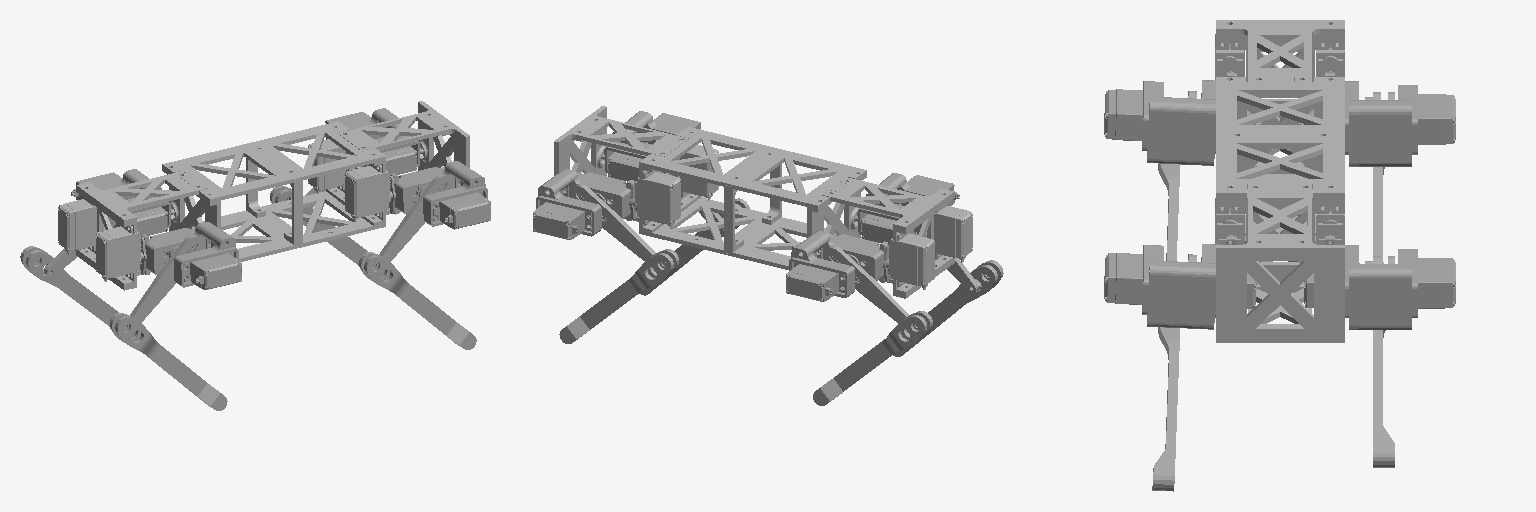
URDF robot description (quadrup):
<?xml version="1.0" encoding="utf-8"?>
<!-- This URDF was automatically created by SolidWorks to URDF Exporter! Originally created by [author] ([email redacted]) 
     Commit Version: 1.6.0-4-g7f85cfe  Build Version: 1.6.7995.38578
     For more information, please see http://wiki.ros.org/sw_urdf_exporter -->
<robot
  name="quadrup">
  <link
    name="base_link">
    <inertial>
      <origin
        xyz="0 0 0"
        rpy="0 0 0" />
      <mass
        value="0.382868888957105" />
      <inertia
        ixx="0.000232445436878078"
        ixy="2.37778762452196E-14"
        ixz="1.92128795328865E-07"
        iyy="0.000232617182321307"
        iyz="-3.24177325290421E-14"
        izz="0.000325745093873624" />
    </inertial>
    <visual>
      <origin
        xyz="0 0 0"
        rpy="0 0 0" />
      <geometry>
        <mesh
          filename="package://quadrup/meshes/base_link.STL" />
      </geometry>
      <material
        name="">
        <color
          rgba="0.752941176470588 0.752941176470588 0.752941176470588 1" />
      </material>
    </visual>
    <collision>
      <origin
        xyz="0 0 0"
        rpy="0 0 0" />
      <geometry>
        <mesh
          filename="package://quadrup/meshes/base_link.STL" />
      </geometry>
    </collision>
  </link>
  <link
    name="leg_right_front">
    <inertial>
      <origin
        xyz="0.14711684616153 0.0673352164210883 -0.0101408682722447"
        rpy="0 0 0" />
      <mass
        value="0.112174369943159" />
      <inertia
        ixx="1.94112267637735E-05"
        ixy="-4.28200144523829E-07"
        ixz="-6.55913870418751E-10"
        iyy="3.66363936956841E-05"
        iyz="-2.82551817811596E-10"
        izz="3.68270404564996E-05" />
    </inertial>
    <visual>
      <origin
        xyz="0 0 0"
        rpy="0 0 0" />
      <geometry>
        <mesh
          filename="package://quadrup/meshes/leg_right_front.STL" />
      </geometry>
      <material
        name="">
        <color
          rgba="0.698039215686274 0.698039215686274 0.698039215686274 1" />
      </material>
    </visual>
    <collision>
      <origin
        xyz="0 0 0"
        rpy="0 0 0" />
      <geometry>
        <mesh
          filename="package://quadrup/meshes/leg_right_front.STL" />
      </geometry>
    </collision>
  </link>
  <joint
    name="joint1_lrf"
    type="revolute">
    <origin
      xyz="0 0 0"
      rpy="0 0 0" />
    <parent
      link="base_link" />
    <child
      link="leg_right_front" />
    <axis
      xyz="-1 0 0" />
    <limit
      lower="-1.57"
      upper="1.57"
      effort="1"
      velocity="7.48" />
  </joint>
  <link
    name="leg_right_front1.1">
    <inertial>
      <origin
        xyz="-0.0235694055422505 -0.00188445326675283 -0.0146673156055545"
        rpy="0 0 0" />
      <mass
        value="0.0105672809279507" />
      <inertia
        ixx="2.85094813814072E-06"
        ixy="2.52526135162662E-08"
        ixz="-4.0963087070173E-06"
        iyy="9.6735125308005E-06"
        iyz="1.57147812508127E-08"
        izz="6.88429928708425E-06" />
    </inertial>
    <visual>
      <origin
        xyz="0 0 0"
        rpy="0 0 0" />
      <geometry>
        <mesh
          filename="package://quadrup/meshes/leg_right_front1.1.STL" />
      </geometry>
      <material
        name="">
        <color
          rgba="0.698039215686274 0.698039215686274 0.698039215686274 1" />
      </material>
    </visual>
    <collision>
      <origin
        xyz="0 0 0"
        rpy="0 0 0" />
      <geometry>
        <mesh
          filename="package://quadrup/meshes/leg_right_front1.1.STL" />
      </geometry>
    </collision>
  </link>
  <joint
    name="joint1.1_lrf"
    type="revolute">
    <origin
      xyz="0.1345 0.0637499999999992 -0.0101999999999993"
      rpy="0 0 0" />
    <parent
      link="leg_right_front" />
    <child
      link="leg_right_front1.1" />
    <axis
      xyz="0 -1 0" />
    <limit
      lower="-1.57"
      upper="1.57"
      effort="1"
      velocity="7.48" />
  </joint>
  <link
    name="leg_right_front1.2">
    <inertial>
      <origin
        xyz="0.0387030895245631 -0.00936090289722566 -0.0368234873031682"
        rpy="0 0 0" />
      <mass
        value="0.0233626466083218" />
      <inertia
        ixx="2.65270461821195E-05"
        ixy="3.46181135638184E-07"
        ixz="2.67578997250576E-05"
        iyy="5.49199124052956E-05"
        iyz="-3.29368083237573E-07"
        izz="2.91923744045958E-05" />
    </inertial>
    <visual>
      <origin
        xyz="0 0 0"
        rpy="0 0 0" />
      <geometry>
        <mesh
          filename="package://quadrup/meshes/leg_right_front1.2.STL" />
      </geometry>
      <material
        name="">
        <color
          rgba="0.698039215686274 0.698039215686274 0.698039215686274 1" />
      </material>
    </visual>
    <collision>
      <origin
        xyz="0 0 0"
        rpy="0 0 0" />
      <geometry>
        <mesh
          filename="package://quadrup/meshes/leg_right_front1.2.STL" />
      </geometry>
    </collision>
  </link>
  <joint
    name="joint1.2_lrf"
    type="revolute">
    <origin
      xyz="-0.0721671910673833 0.0162000000000004 -0.0449098712249736"
      rpy="0 0 0" />
    <parent
      link="leg_right_front1.1" />
    <child
      link="leg_right_front1.2" />
    <axis
      xyz="0 -1 0" />
    <limit
      lower="-1.57"
      upper="1.57"
      effort="1"
      velocity="7.48" />
  </joint>
  <link
    name="leg_right_back">
    <inertial>
      <origin
        xyz="-0.123083152184718 0.0673352139819278 -0.0101408681334863"
        rpy="0 0 0" />
      <mass
        value="0.1121743784994" />
      <inertia
        ixx="1.94112275755957E-05"
        ixy="-4.2819784110199E-07"
        ixz="-6.56378120003153E-10"
        iyy="3.66364004059403E-05"
        iyz="-2.82403459617044E-10"
        izz="3.6827047985535E-05" />
    </inertial>
    <visual>
      <origin
        xyz="0 0 0"
        rpy="0 0 0" />
      <geometry>
        <mesh
          filename="package://quadrup/meshes/leg_right_back.STL" />
      </geometry>
      <material
        name="">
        <color
          rgba="0.698039215686274 0.698039215686274 0.698039215686274 1" />
      </material>
    </visual>
    <collision>
      <origin
        xyz="0 0 0"
        rpy="0 0 0" />
      <geometry>
        <mesh
          filename="package://quadrup/meshes/leg_right_back.STL" />
      </geometry>
    </collision>
  </link>
  <joint
    name="joint1_lrb"
    type="revolute">
    <origin
      xyz="0 0 0"
      rpy="0 0 0" />
    <parent
      link="base_link" />
    <child
      link="leg_right_back" />
    <axis
      xyz="-1 0 0" />
    <limit
      lower="-1.57"
      upper="1.57"
      effort="1"
      velocity="7.48" />
  </joint>
  <link
    name="leg_right_back1.1">
    <inertial>
      <origin
        xyz="-0.0235694055422511 -0.000234453266753157 -0.0146673156055546"
        rpy="0 0 0" />
      <mass
        value="0.0105672809279507" />
      <inertia
        ixx="2.85094813814072E-06"
        ixy="2.52526135162688E-08"
        ixz="-4.0963087070173E-06"
        iyy="9.67351253080049E-06"
        iyz="1.57147812508142E-08"
        izz="6.88429928708424E-06" />
    </inertial>
    <visual>
      <origin
        xyz="0 0 0"
        rpy="0 0 0" />
      <geometry>
        <mesh
          filename="package://quadrup/meshes/leg_right_back1.1.STL" />
      </geometry>
      <material
        name="">
        <color
          rgba="0.698039215686274 0.698039215686274 0.698039215686274 1" />
      </material>
    </visual>
    <collision>
      <origin
        xyz="0 0 0"
        rpy="0 0 0" />
      <geometry>
        <mesh
          filename="package://quadrup/meshes/leg_right_back1.1.STL" />
      </geometry>
    </collision>
  </link>
  <joint
    name="joint1.1_lrb"
    type="revolute">
    <origin
      xyz="-0.1357 0.0620999999999996 -0.0101999999999998"
      rpy="0 0 0" />
    <parent
      link="leg_right_back" />
    <child
      link="leg_right_back1.1" />
    <axis
      xyz="0 -1 0" />
    <limit
      lower="-1.57"
      upper="1.57"
      effort="1"
      velocity="7.48" />
  </joint>
  <link
    name="leg_right_back1.2">
    <inertial>
      <origin
        xyz="0.0387030895245632 -0.00936090289722567 -0.0368234873031682"
        rpy="0 0 0" />
      <mass
        value="0.0233626466083219" />
      <inertia
        ixx="2.65270461821195E-05"
        ixy="3.4618113563819E-07"
        ixz="2.67578997250577E-05"
        iyy="5.49199124052957E-05"
        iyz="-3.29368083237577E-07"
        izz="2.91923744045958E-05" />
    </inertial>
    <visual>
      <origin
        xyz="0 0 0"
        rpy="0 0 0" />
      <geometry>
        <mesh
          filename="package://quadrup/meshes/leg_right_back1.2.STL" />
      </geometry>
      <material
        name="">
        <color
          rgba="0.698039215686274 0.698039215686274 0.698039215686274 1" />
      </material>
    </visual>
    <collision>
      <origin
        xyz="0 0 0"
        rpy="0 0 0" />
      <geometry>
        <mesh
          filename="package://quadrup/meshes/leg_right_back1.2.STL" />
      </geometry>
    </collision>
  </link>
  <joint
    name="joint1.2_lrb"
    type="revolute">
    <origin
      xyz="-0.0721671910673838 0.0178500000000001 -0.0449098712249736"
      rpy="0 0 0" />
    <parent
      link="leg_right_back1.1" />
    <child
      link="leg_right_back1.2" />
    <axis
      xyz="0 -1 0" />
    <limit
      lower="-1.57"
      upper="1.57"
      effort="1"
      velocity="7.48" />
  </joint>
  <link
    name="leg_left_front">
    <inertial>
      <origin
        xyz="0.147285903596159 -0.0670634994667191 -0.00863009067399865"
        rpy="0 0 0" />
      <mass
        value="0.112879360735619" />
      <inertia
        ixx="1.97267992447894E-05"
        ixy="4.71156377097915E-07"
        ixz="-2.31041512231938E-08"
        iyy="3.74050185920932E-05"
        iyz="-5.38599672276371E-09"
        izz="3.72954507940468E-05" />
    </inertial>
    <visual>
      <origin
        xyz="0 0 0"
        rpy="0 0 0" />
      <geometry>
        <mesh
          filename="package://quadrup/meshes/leg_left_front.STL" />
      </geometry>
      <material
        name="">
        <color
          rgba="0.698039215686274 0.698039215686274 0.698039215686274 1" />
      </material>
    </visual>
    <collision>
      <origin
        xyz="0 0 0"
        rpy="0 0 0" />
      <geometry>
        <mesh
          filename="package://quadrup/meshes/leg_left_front.STL" />
      </geometry>
    </collision>
  </link>
  <joint
    name="joint1_llf"
    type="revolute">
    <origin
      xyz="0 0 0"
      rpy="0 0 0" />
    <parent
      link="base_link" />
    <child
      link="leg_left_front" />
    <axis
      xyz="-1 0 0" />
    <limit
      lower="-1.57"
      upper="1.57"
      effort="1"
      velocity="7.48" />
  </joint>
  <link
    name="leg_left_front1.1">
    <inertial>
      <origin
        xyz="-0.0201829060898926 0.000948612578875269 -0.0191297837087719"
        rpy="0 0 0" />
      <mass
        value="0.0105672809279507" />
      <inertia
        ixx="4.60662839701264E-06"
        ixy="-2.44867159960041E-07"
        ixz="-4.55182540570307E-06"
        iyy="9.66061099098475E-06"
        iyz="-2.42665849785899E-07"
        izz="5.14152056802804E-06" />
    </inertial>
    <visual>
      <origin
        xyz="0 0 0"
        rpy="0 0 0" />
      <geometry>
        <mesh
          filename="package://quadrup/meshes/leg_left_front1.1.STL" />
      </geometry>
      <material
        name="">
        <color
          rgba="0.698039215686274 0.698039215686274 0.698039215686274 1" />
      </material>
    </visual>
    <collision>
      <origin
        xyz="0 0 0"
        rpy="0 0 0" />
      <geometry>
        <mesh
          filename="package://quadrup/meshes/leg_left_front1.1.STL" />
      </geometry>
    </collision>
  </link>
  <joint
    name="joint1.1_llf"
    type="revolute">
    <origin
      xyz="0.1345 -0.0637155529176513 -0.00879427032280614"
      rpy="0 0 0" />
    <parent
      link="leg_left_front" />
    <child
      link="leg_left_front1.1" />
    <axis
      xyz="0 0.998799753228262 -0.0489801281252161" />
    <limit
      lower="-1.57"
      upper="1.57"
      effort="1"
      velocity="7.48" />
  </joint>
  <link
    name="leg_left_front1.2">
    <inertial>
      <origin
        xyz="0.0376235638373703 0.00749205731578731 -0.0383387713778731"
        rpy="0 0 0" />
      <mass
        value="0.0233626464777189" />
      <inertia
        ixx="2.80740686991034E-05"
        ixy="9.7606728602727E-07"
        ixz="2.67745360843051E-05"
        iyy="5.48876703050073E-05"
        iyz="-9.96707077112438E-07"
        izz="2.76775939399887E-05" />
    </inertial>
    <visual>
      <origin
        xyz="0 0 0"
        rpy="0 0 0" />
      <geometry>
        <mesh
          filename="package://quadrup/meshes/leg_left_front1.2.STL" />
      </geometry>
      <material
        name="">
        <color
          rgba="0.698039215686274 0.698039215686274 0.698039215686274 1" />
      </material>
    </visual>
    <collision>
      <origin
        xyz="0 0 0"
        rpy="0 0 0" />
      <geometry>
        <mesh
          filename="package://quadrup/meshes/leg_left_front1.2.STL" />
      </geometry>
    </collision>
  </link>
  <joint
    name="joint1.2_llf"
    type="revolute">
    <origin
      xyz="-0.0617980643369767 -0.0207370418706593 -0.057414147547947"
      rpy="0 0 0" />
    <parent
      link="leg_left_front1.1" />
    <child
      link="leg_left_front1.2" />
    <axis
      xyz="0 0.998799753228262 -0.0489801281252177" />
    <limit
      lower="-1.57"
      upper="1.57"
      effort="1"
      velocity="7.48" />
  </joint>
  <link
    name="leg_left_back">
    <inertial>
      <origin
        xyz="-0.12291409639043 -0.0670634994486883 -0.00863009067628879"
        rpy="0 0 0" />
      <mass
        value="0.112879360808416" />
      <inertia
        ixx="1.97267992476244E-05"
        ixy="4.71156365932039E-07"
        ixz="-2.31041463579559E-08"
        iyy="3.74050186419914E-05"
        iyz="-5.38599547090938E-09"
        izz="3.72954508461301E-05" />
    </inertial>
    <visual>
      <origin
        xyz="0 0 0"
        rpy="0 0 0" />
      <geometry>
        <mesh
          filename="package://quadrup/meshes/leg_left_back.STL" />
      </geometry>
      <material
        name="">
        <color
          rgba="0.698039215686274 0.698039215686274 0.698039215686274 1" />
      </material>
    </visual>
    <collision>
      <origin
        xyz="0 0 0"
        rpy="0 0 0" />
      <geometry>
        <mesh
          filename="package://quadrup/meshes/leg_left_back.STL" />
      </geometry>
    </collision>
  </link>
  <joint
    name="joint1_llb"
    type="revolute">
    <origin
      xyz="0 0 0"
      rpy="0 0 0" />
    <parent
      link="base_link" />
    <child
      link="leg_left_back" />
    <axis
      xyz="-1 0 0" />
    <limit
      lower="-1.57"
      upper="1.57"
      effort="1"
      velocity="7.48" />
  </joint>
  <link
    name="leg_left_back1.1">
    <inertial>
      <origin
        xyz="-0.0201829060898926 -5.01871743529975E-05 -0.0190808035806467"
        rpy="0 0 0" />
      <mass
        value="0.0105672809279507" />
      <inertia
        ixx="4.60662839701265E-06"
        ixy="-2.44867159960037E-07"
        ixz="-4.55182540570307E-06"
        iyy="9.66061099098475E-06"
        iyz="-2.42665849785896E-07"
        izz="5.14152056802805E-06" />
    </inertial>
    <visual>
      <origin
        xyz="0 0 0"
        rpy="0 0 0" />
      <geometry>
        <mesh
          filename="package://quadrup/meshes/leg_left_back1.1.STL" />
      </geometry>
      <material
        name="">
        <color
          rgba="0.698039215686274 0.698039215686274 0.698039215686274 1" />
      </material>
    </visual>
    <collision>
      <origin
        xyz="0 0 0"
        rpy="0 0 0" />
      <geometry>
        <mesh
          filename="package://quadrup/meshes/leg_left_back1.1.STL" />
      </geometry>
    </collision>
  </link>
  <joint
    name="joint1.1_llb"
    type="revolute">
    <origin
      xyz="-0.1357 -0.0627167531644228 -0.00884325045093167"
      rpy="0 0 0" />
    <parent
      link="leg_left_back" />
    <child
      link="leg_left_back1.1" />
    <axis
      xyz="0 0.998799753228262 -0.0489801281252161" />
    <limit
      lower="-1.57"
      upper="1.57"
      effort="1"
      velocity="7.48" />
  </joint>
  <link
    name="leg_left_back1.2">
    <inertial>
      <origin
        xyz="0.0376235638373702 0.00749205731578728 -0.038338771377873"
        rpy="0 0 0" />
      <mass
        value="0.0233626464777187" />
      <inertia
        ixx="2.80740686991034E-05"
        ixy="9.76067286027284E-07"
        ixz="2.67745360843051E-05"
        iyy="5.48876703050072E-05"
        iyz="-9.96707077112452E-07"
        izz="2.76775939399886E-05" />
    </inertial>
    <visual>
      <origin
        xyz="0 0 0"
        rpy="0 0 0" />
      <geometry>
        <mesh
          filename="package://quadrup/meshes/leg_left_back1.2.STL" />
      </geometry>
      <material
        name="">
        <color
          rgba="0.698039215686274 0.698039215686274 0.698039215686274 1" />
      </material>
    </visual>
    <collision>
      <origin
        xyz="0 0 0"
        rpy="0 0 0" />
      <geometry>
        <mesh
          filename="package://quadrup/meshes/leg_left_back1.2.STL" />
      </geometry>
    </collision>
  </link>
  <joint
    name="joint1.2_llb"
    type="revolute">
    <origin
      xyz="-0.0617980643369767 -0.0217358416238875 -0.0573651674198217"
      rpy="0 0 0" />
    <parent
      link="leg_left_back1.1" />
    <child
      link="leg_left_back1.2" />
    <axis
      xyz="0 0.998799753228262 -0.0489801281252177" />
    <limit
      lower="-1.57"
      upper="1.57"
      effort="1"
      velocity="7.48" />
  </joint>
</robot>

--- Facts derived from the render (not from the file) ---
Views: 3 orthographic renders of the robot side by side, from view 1: azimuth 30°, elevation 25°; view 2: azimuth 150°, elevation 25°; view 3: azimuth 270°, elevation 25°.
Robot: quadrup — 13 links, 12 joints (12 revolute); root link base_link; default pose: all joints at 0.
Visible links, largest first — view 1: base_link, leg_left_front, leg_left_back, leg_left_back1.2, leg_left_front1.2, leg_right_back1.2, leg_right_back, leg_right_front, leg_left_front1.1, leg_left_back1.1, leg_right_front1.2; view 2: base_link, leg_right_back, leg_right_front, leg_right_back1.2, leg_right_front1.2, leg_left_back, leg_left_front, leg_left_back1.2, leg_right_back1.1, leg_right_front1.1, leg_left_front1.2, leg_left_back1.1; view 3: base_link, leg_left_front, leg_right_front, leg_left_back, leg_right_back, leg_left_front1.2, leg_right_front1.2, leg_left_back1.2, leg_right_back1.2.
Boxes of the visible links, left/top/right/bottom form: base_link: left=58, top=101, right=469, bottom=290; leg_left_front: left=389, top=161, right=490, bottom=229; leg_left_back: left=140, top=222, right=241, bottom=289; leg_left_back1.2: left=110, top=313, right=227, bottom=410; leg_left_front1.2: left=359, top=252, right=476, bottom=349; leg_right_back1.2: left=20, top=246, right=135, bottom=336; leg_right_back: left=71, top=169, right=174, bottom=235; leg_right_front: left=325, top=108, right=423, bottom=174; leg_left_front1.1: left=379, top=174, right=451, bottom=261; leg_left_back1.1: left=130, top=235, right=202, bottom=322; leg_right_front1.2: left=270, top=186, right=384, bottom=275; base_link: left=554, top=106, right=972, bottom=298; leg_right_back: left=786, top=231, right=889, bottom=301; leg_right_front: left=533, top=169, right=636, bottom=239; leg_right_back1.2: left=813, top=311, right=932, bottom=405; leg_right_front1.2: left=559, top=249, right=678, bottom=343; leg_left_back: left=854, top=173, right=959, bottom=244; leg_left_front: left=601, top=111, right=700, bottom=181; leg_left_back1.2: left=893, top=260, right=1003, bottom=356; leg_right_back1.1: left=823, top=246, right=908, bottom=323; leg_right_front1.1: left=570, top=184, right=655, bottom=268; leg_left_front1.2: left=639, top=198, right=749, bottom=295; leg_left_back1.1: left=894, top=202, right=978, bottom=293; base_link: left=1215, top=20, right=1344, bottom=342; leg_left_front: left=1104, top=235, right=1256, bottom=329; leg_right_front: left=1304, top=235, right=1455, bottom=329; leg_left_back: left=1104, top=71, right=1256, bottom=165; leg_right_back: left=1304, top=71, right=1455, bottom=166; leg_left_front1.2: left=1152, top=327, right=1179, bottom=491; leg_right_front1.2: left=1373, top=256, right=1394, bottom=467; leg_left_back1.2: left=1158, top=164, right=1179, bottom=260; leg_right_back1.2: left=1373, top=92, right=1394, bottom=263.
Bounding box of the posed robot: 0.4157 × 0.245 × 0.199 m (x, y, z).
Meshes: 13 distinct files referenced, 13 mesh visuals loaded (13 binary STL).